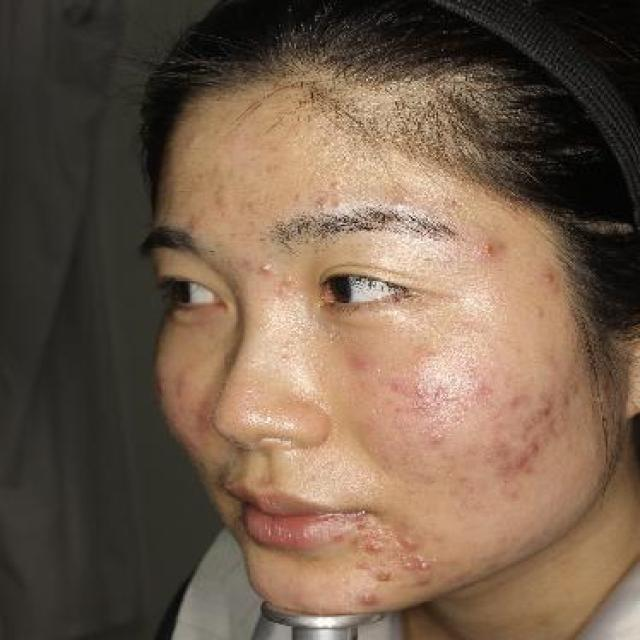nodules: (468, 236, 507, 265), (529, 263, 562, 292), (356, 585, 385, 611), (410, 553, 444, 573), (364, 533, 390, 556), (257, 251, 276, 282), (375, 566, 399, 586)
